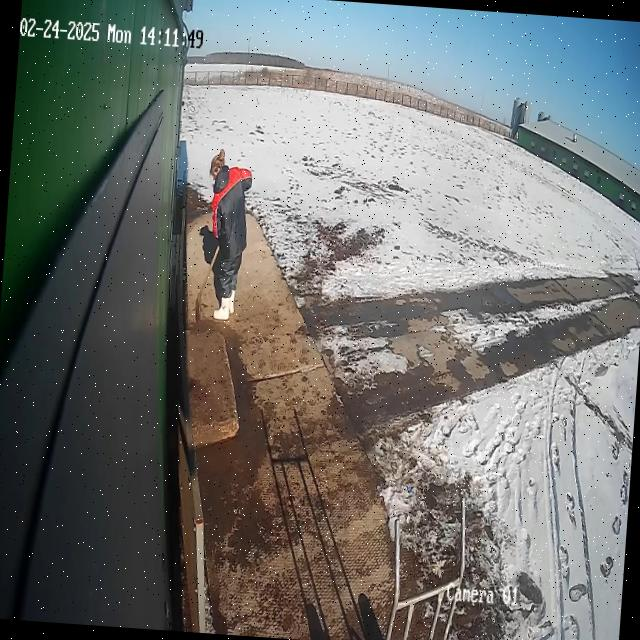Red uniform: (193, 146, 256, 325)
